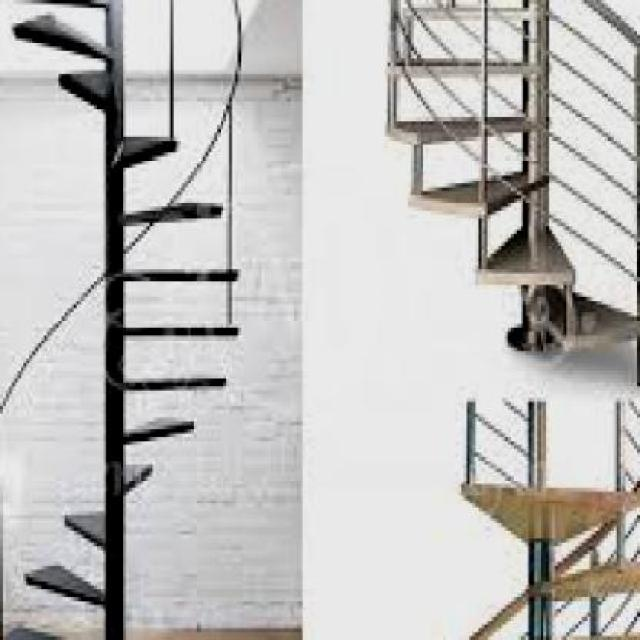stair: (0, 0, 251, 637), (340, 0, 637, 375)
